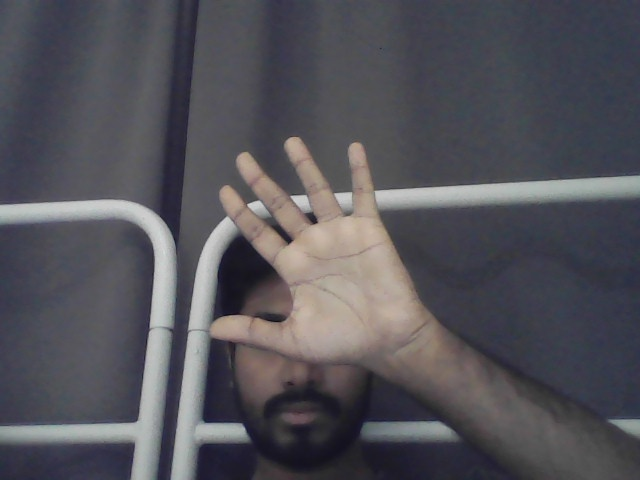hello: (217, 135, 427, 371)
